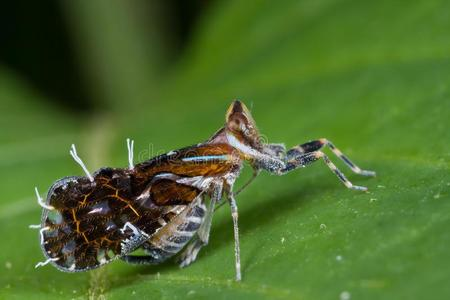Delphacidae: (27, 99, 376, 282)
